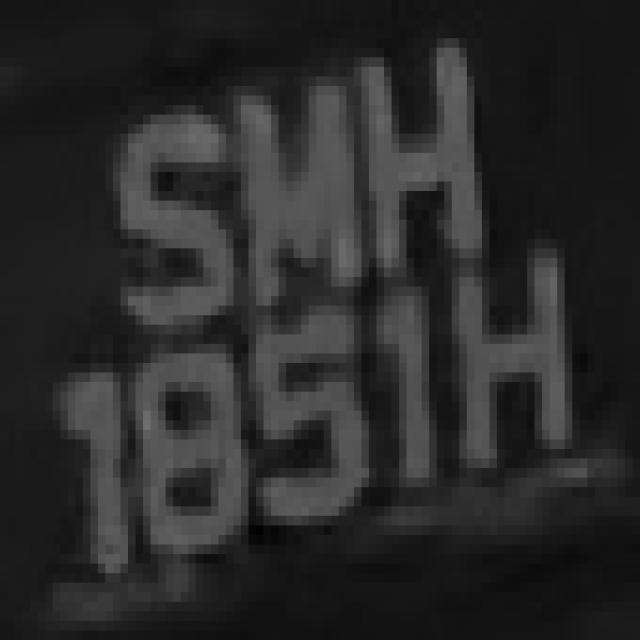1: (53, 315, 158, 621), (354, 277, 437, 544)
5: (234, 306, 362, 535)
8: (113, 296, 248, 573)
H: (339, 38, 497, 296), (429, 229, 587, 487)
M: (211, 96, 361, 306)
S: (90, 86, 234, 353)
